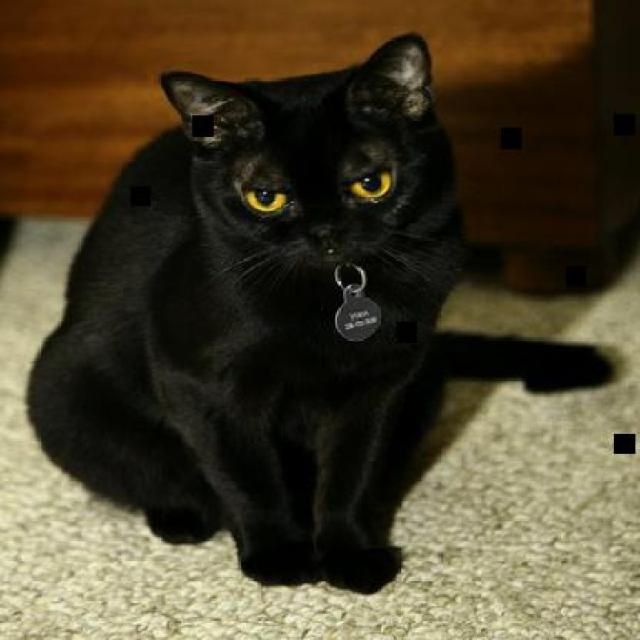cat: (27, 36, 611, 596)
